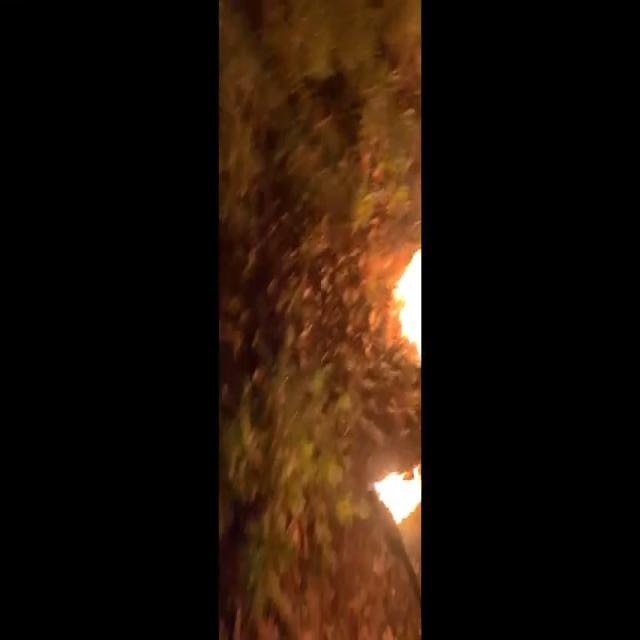Fire: (372, 220, 422, 538)
